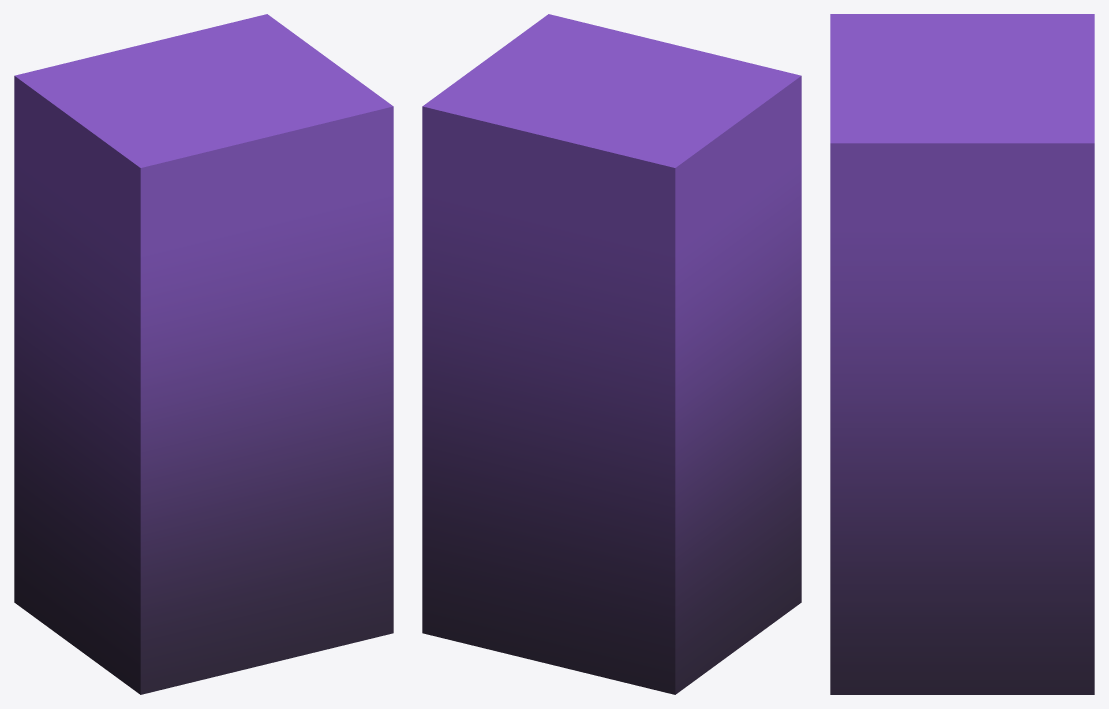
Rendered from Plat01.014.glb.
3 views of the same model, side by side, from view 1: azimuth 30°, elevation 25°; view 2: azimuth 150°, elevation 25°; view 3: azimuth 270°, elevation 25° (orthographic). The views are drawn at different scales.
Visible parts, largest first — view 1: Plat01.014; view 2: Plat01.014; view 3: Plat01.014.
Part boxes in pixels (bbox=[...]): Plat01.014: bbox=[14, 14, 393, 694]; Plat01.014: bbox=[422, 14, 801, 694]; Plat01.014: bbox=[830, 14, 1094, 694].
Size of what is drawn, in the model's own units: 1.93 by 3.85 by 1.67.
Materials: 1 (1 with a texture image).
